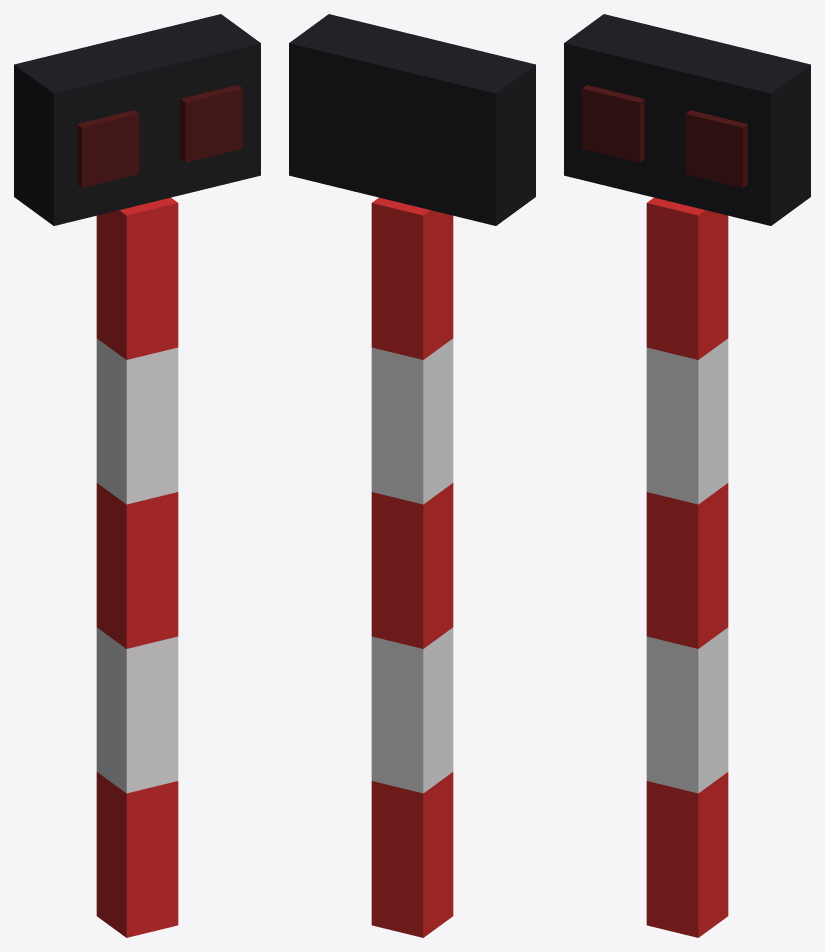
File: signal.obj
3 renders of one model, left to right at view 1: azimuth 30°, elevation 25°; view 2: azimuth 150°, elevation 25°; view 3: azimuth 330°, elevation 25°, orthographic.
Bounding box in the file's own units: 0.36 × 1.44 × 0.135.
